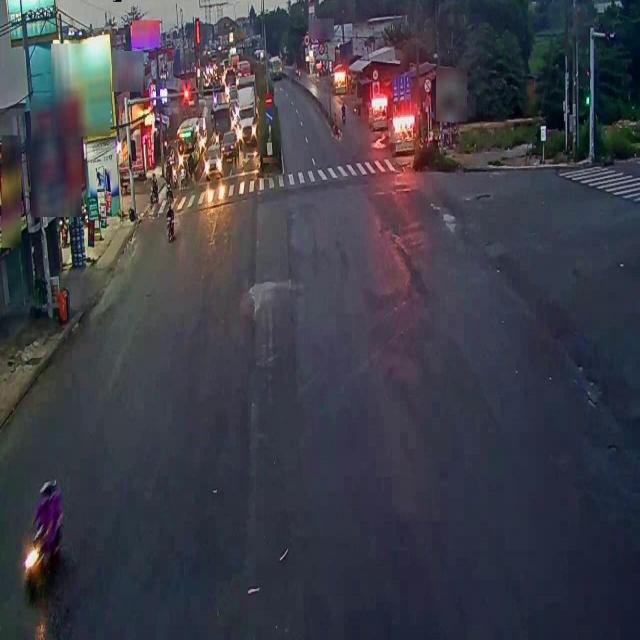motorcycle: (20, 475, 66, 601)
